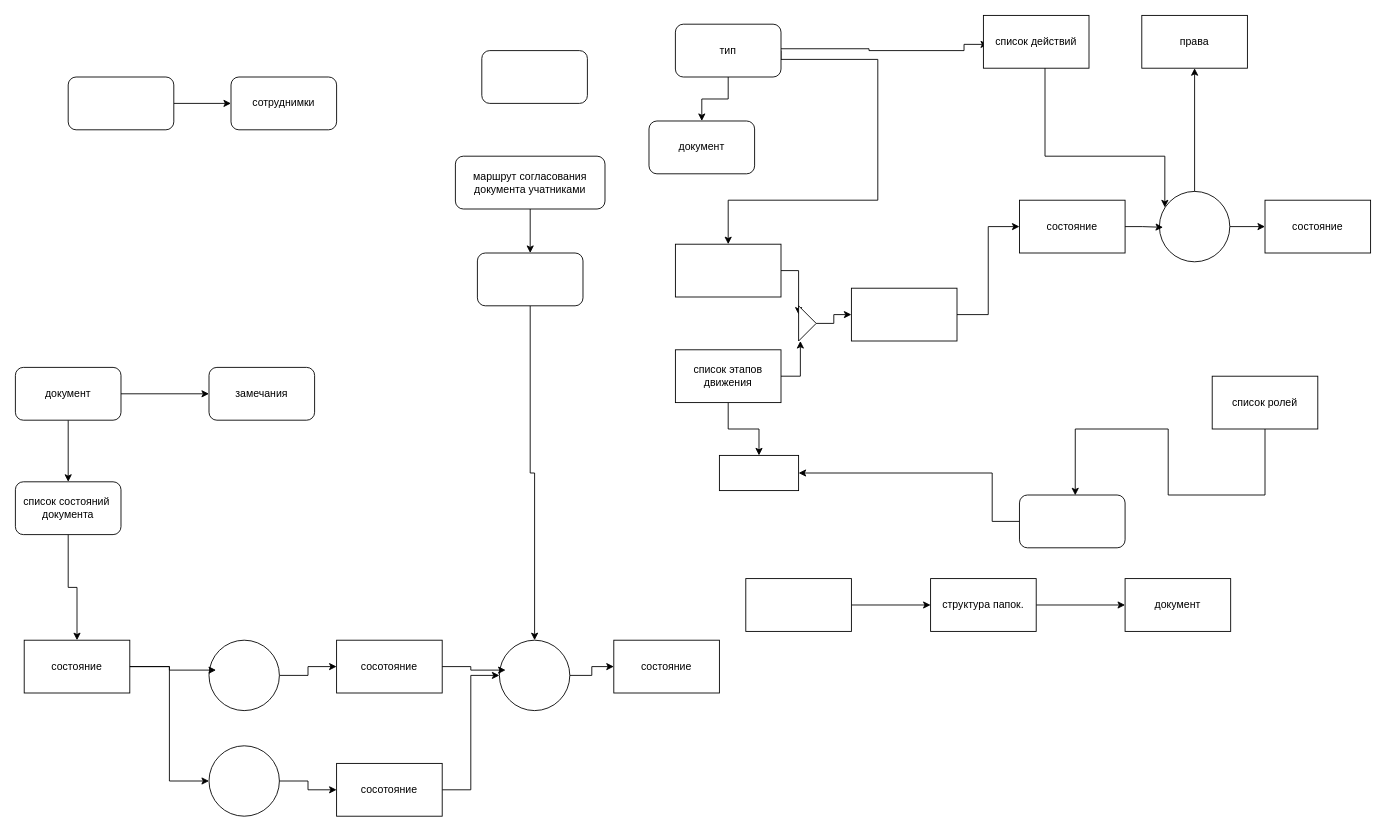
This 1386x832 diagram has some shape labels left out. The shapes that lost their labels are listed below. From the top down, each one's centre as x and y in pixels, then its label:
At (x=534, y=76): "согласование перехода".
At (x=120, y=103): "фирмы".
At (x=1194, y=226): "действие".
At (x=530, y=279): "Список возможных действий".
At (x=728, y=270): "список состояний типов".
At (x=904, y=314): "список состояний сосотояние".
At (x=759, y=473): "этап".
At (x=1072, y=521): "роль".
At (x=798, y=604): "проект".
